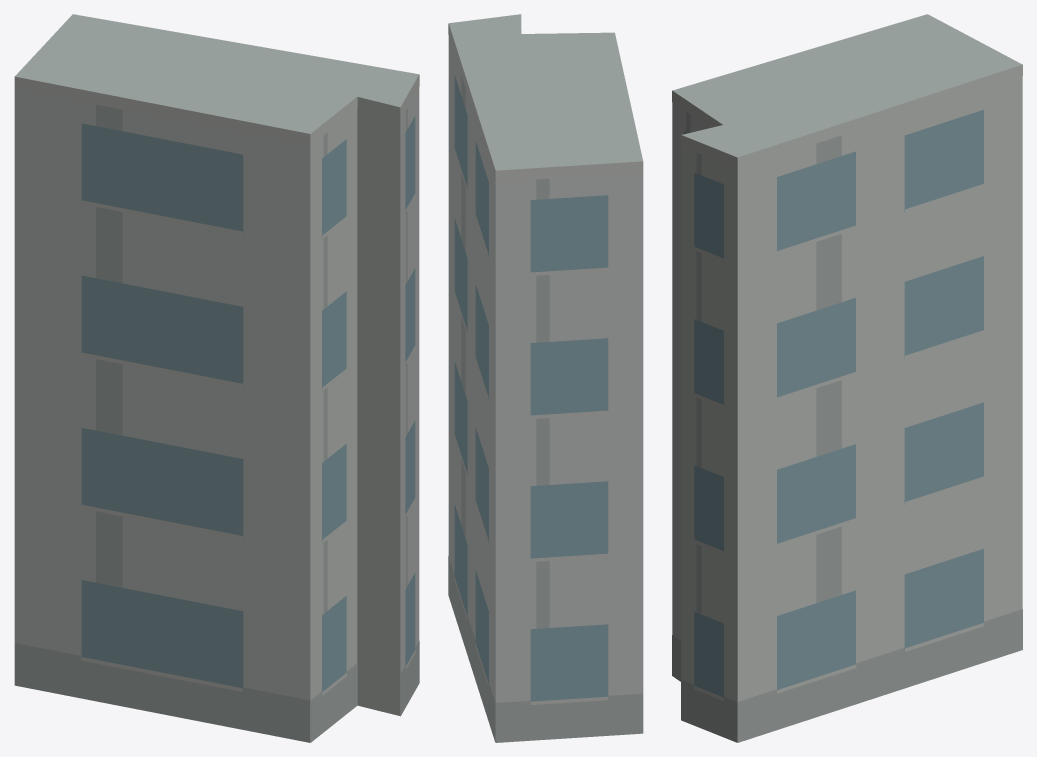
The model's file is survey-upis-32783411.glb.
3 renders of one model, left to right at view 1: azimuth 30°, elevation 25°; view 2: azimuth 150°, elevation 25°; view 3: azimuth 270°, elevation 25°, orthographic. The views are drawn at different scales.
Parts seen in each view (by area): view 1: survey-upis-32783411.tmp; view 2: survey-upis-32783411.tmp; view 3: survey-upis-32783411.tmp.
Boxes of the visible parts, bbox=[...] form: survey-upis-32783411.tmp: bbox=[14, 14, 419, 742]; survey-upis-32783411.tmp: bbox=[448, 14, 643, 742]; survey-upis-32783411.tmp: bbox=[672, 14, 1022, 742].
Bounding box in the file's own units: 6.42 × 12.2 × 6.63.
